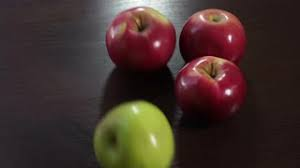apple: (95, 101, 174, 168), (106, 8, 181, 74), (178, 58, 247, 125), (182, 7, 250, 70)
